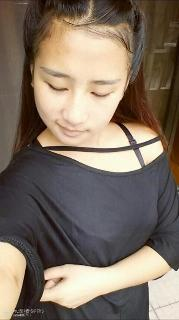short sleeve dress: (0, 135, 179, 320)
